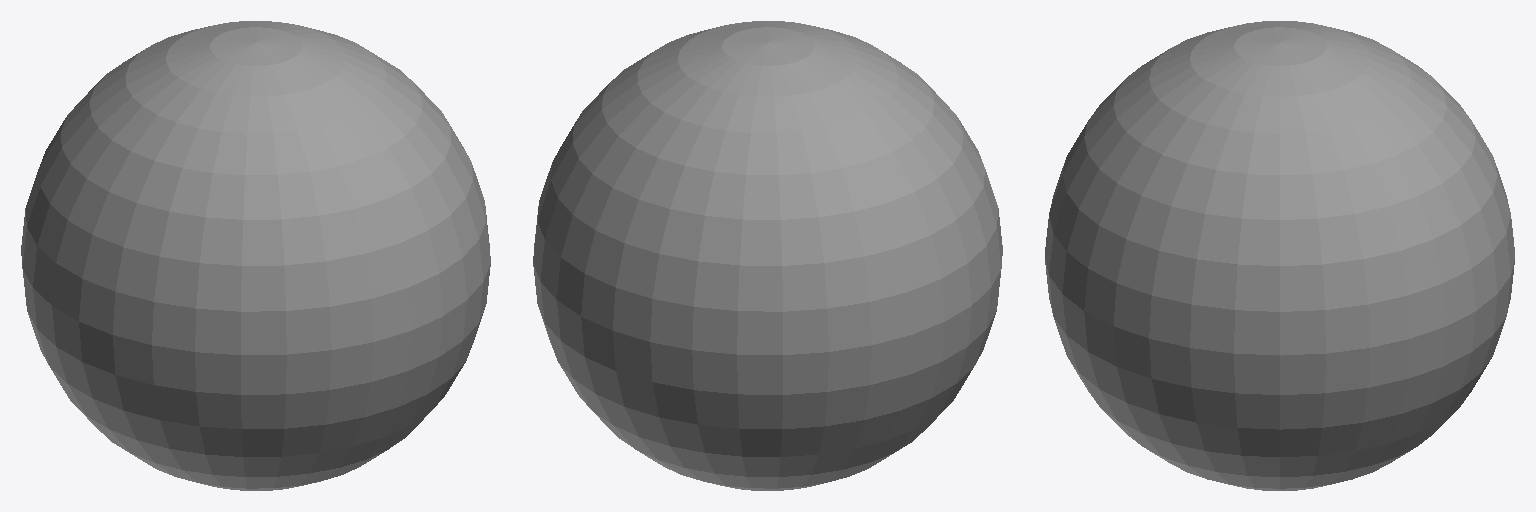
Rendered from PA10Ball_new.obj.
The picture shows the model from 3 angles: view 1: azimuth 30°, elevation 25°; view 2: azimuth 150°, elevation 25°; view 3: azimuth 270°, elevation 25°; orthographic projection.
Visible parts, largest first — view 1: Sphere; view 2: Sphere; view 3: Sphere.
Boxes of the visible parts, <box> form: Sphere: <box>21,21,490,490</box>; Sphere: <box>533,21,1002,490</box>; Sphere: <box>1045,21,1514,490</box>.
Size of the model in its own units: 1.96 by 1.96 by 1.96.